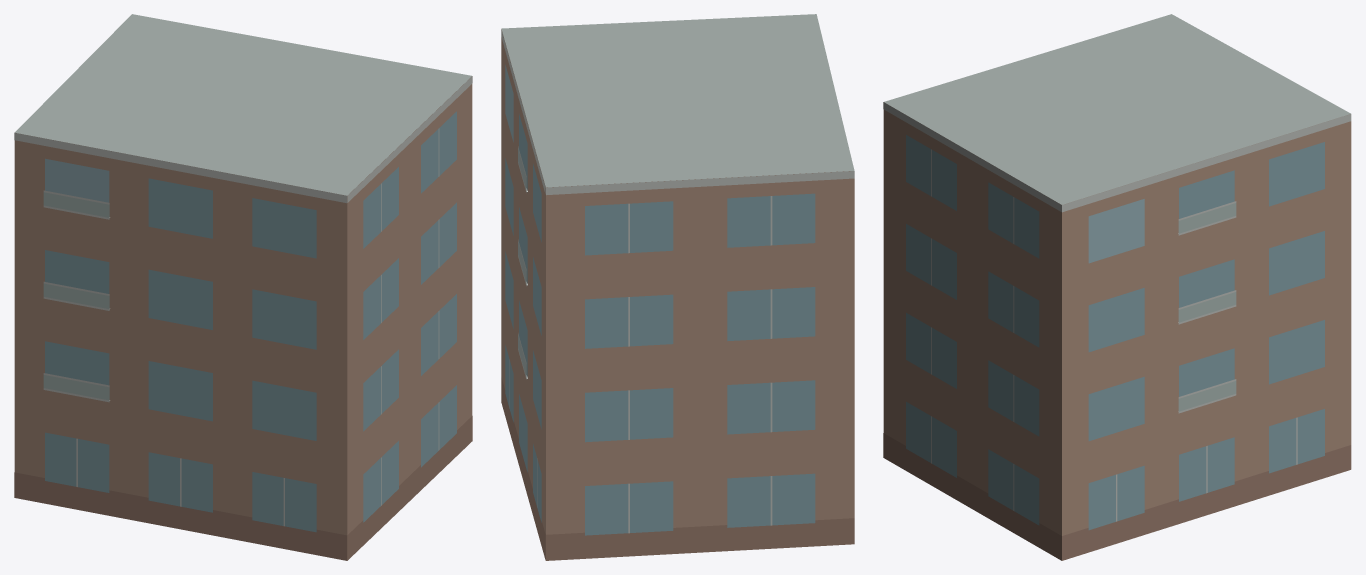
The model's file is survey-upis-32850630.glb.
3 views of the same model, side by side, from view 1: azimuth 30°, elevation 25°; view 2: azimuth 150°, elevation 25°; view 3: azimuth 270°, elevation 25° (orthographic). The views are drawn at different scales.
Visible parts, largest first — view 1: survey-upis-32850630.tmp; view 2: survey-upis-32850630.tmp; view 3: survey-upis-32850630.tmp.
Boxes of the visible parts, x1,y1,x2,y2 form: survey-upis-32850630.tmp: (14,14,472,560); survey-upis-32850630.tmp: (501,14,854,560); survey-upis-32850630.tmp: (883,14,1351,560).
Bounding box in the file's own units: 13.59 × 11.8 × 14.07.
